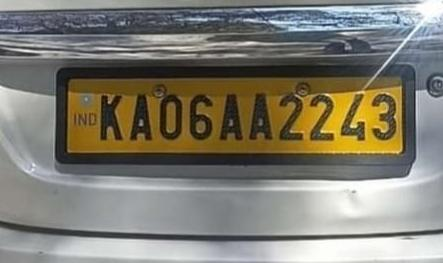0: (158, 92, 184, 143)
2: (276, 89, 309, 145), (310, 92, 338, 142)
3: (369, 91, 398, 144)
4: (341, 89, 367, 145)
6: (188, 91, 215, 143)
A: (127, 85, 154, 146), (249, 88, 277, 145), (218, 87, 245, 144)
K: (94, 87, 127, 151)
